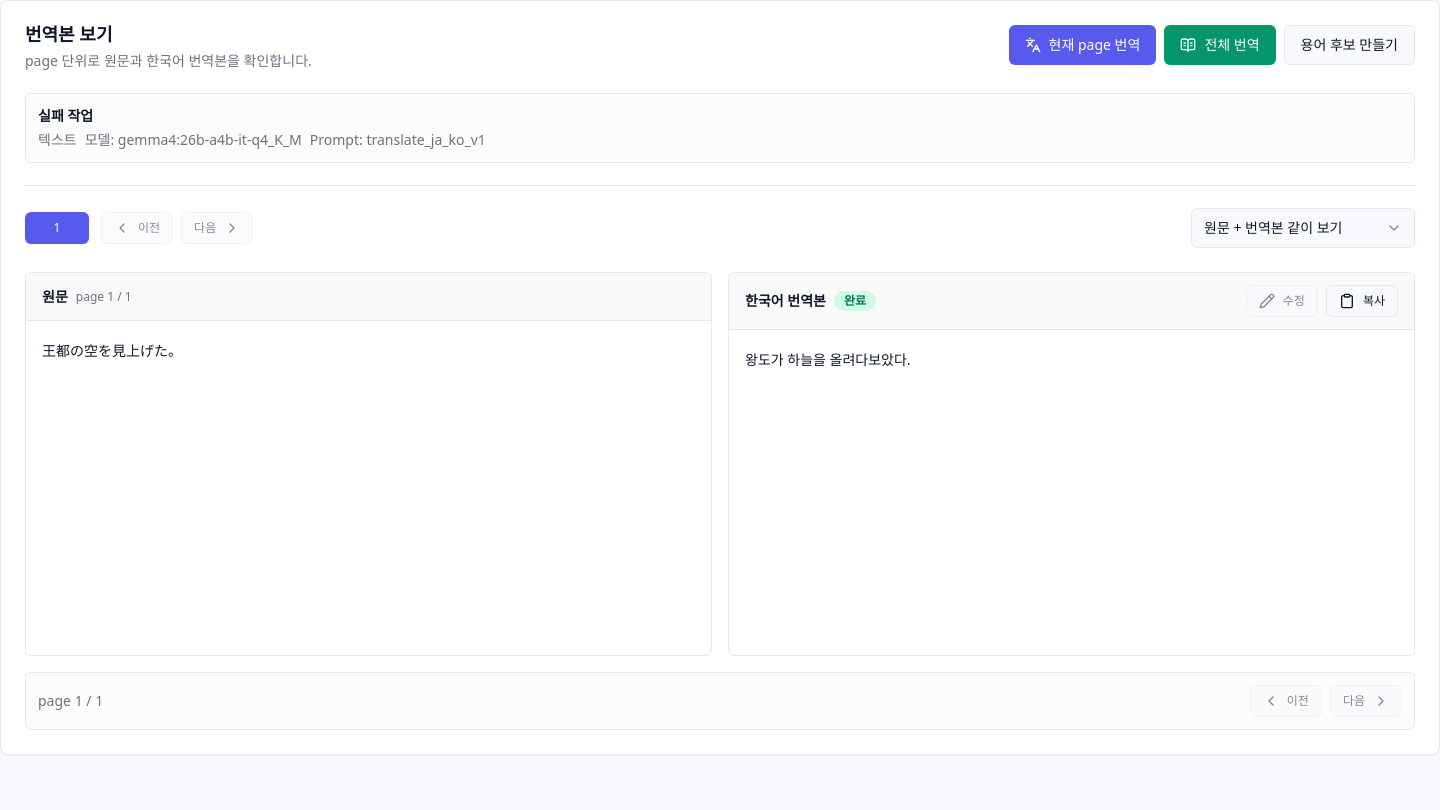
Scenario: TranslationViewer glossary candidate selection › keeps the candidate confirmation disabled until both terms are selected
What coordinates should you click on to do the following:
click the button "용어 후보 만들기"
I would click on:
 (1349, 45)
Its box is left=1284, top=25, right=1415, bottom=65.
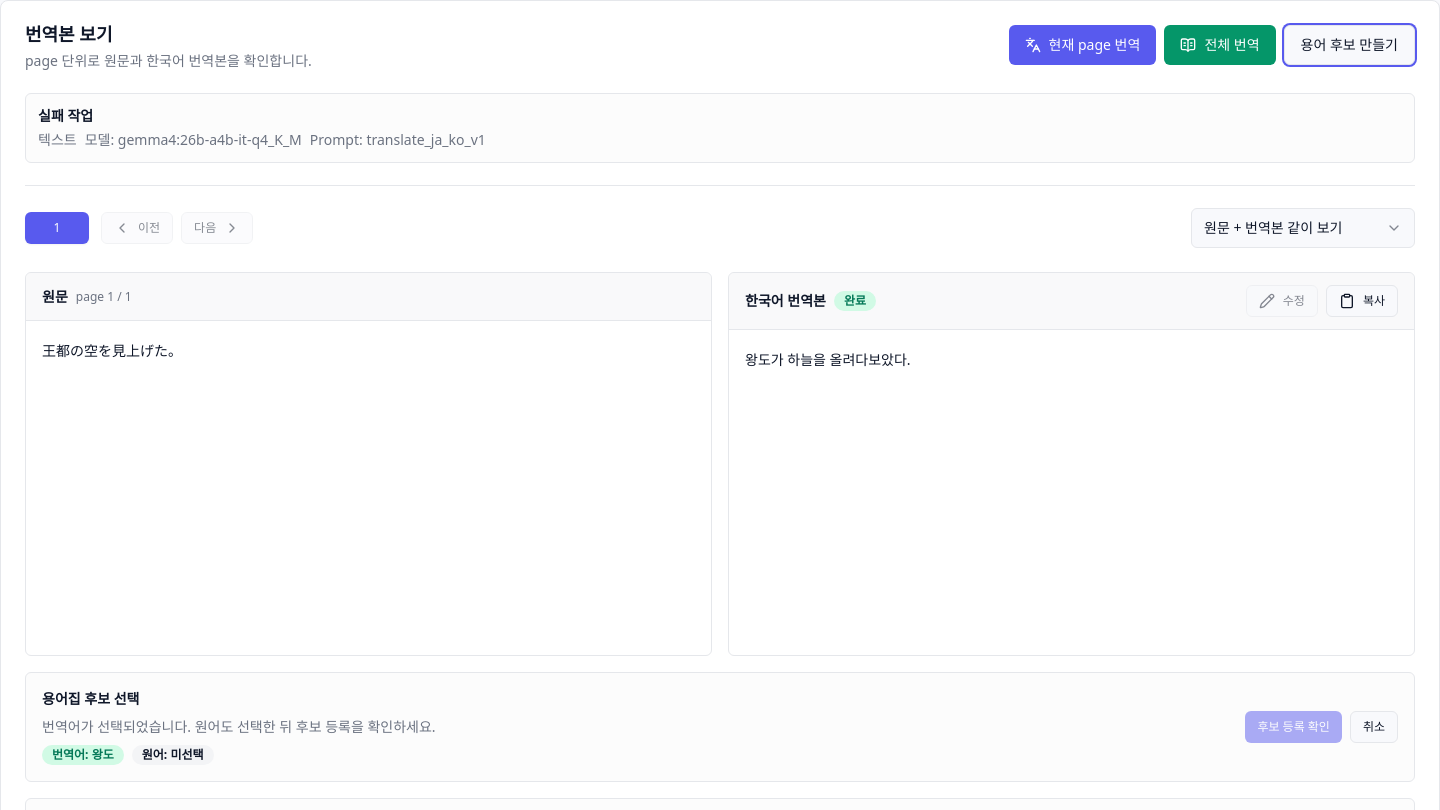
Check: the button "후보 등록 확인" is disabled, box left=1245, top=711, right=1342, bottom=743
